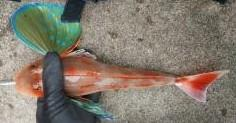fish: (10, 3, 231, 122)
